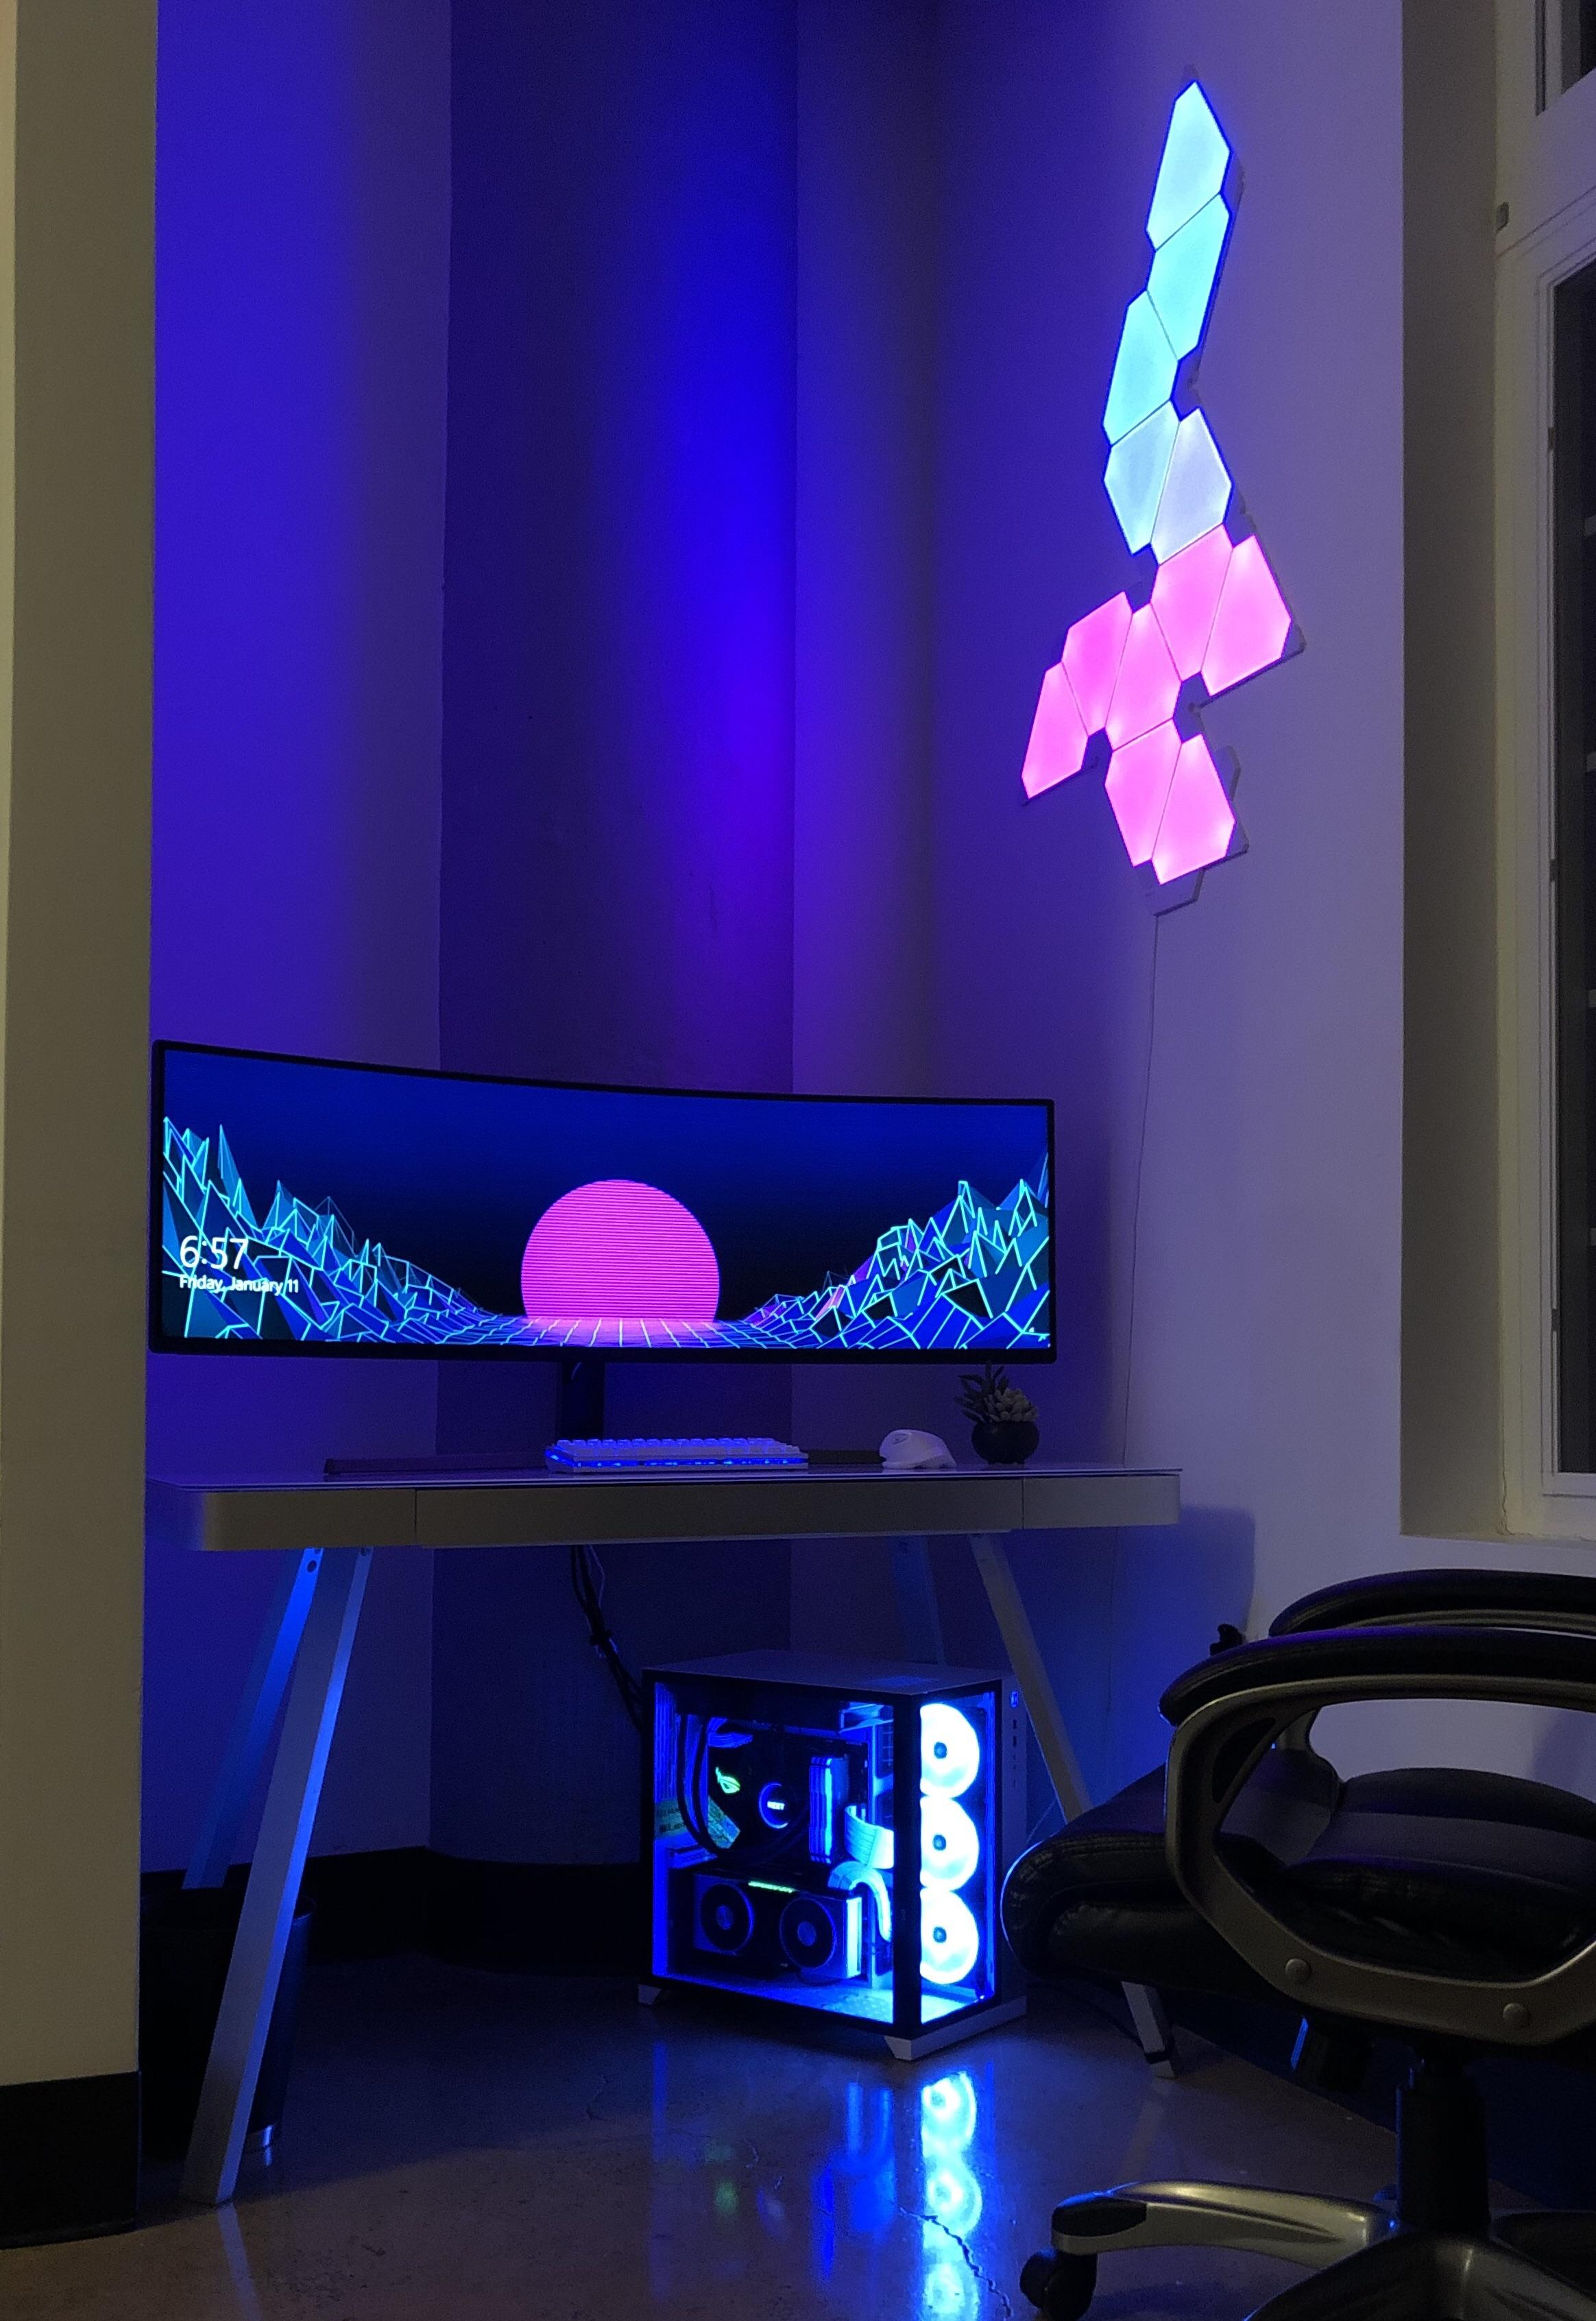Chair (Generic): (996, 1563, 1596, 2321)
Decoration (Plant): (954, 1362, 1039, 1464)
Desk (Generic): (146, 1462, 1183, 2210)
Desktop (Windows): (638, 1649, 1026, 2064)
Keyboard (Gaming): (545, 1436, 808, 1473)
Lamp (Desk): (1014, 62, 1303, 924)
Monitor (Landscape): (152, 1039, 1058, 1434)
Mouse (Ergonomic): (880, 1427, 958, 1471)
Trash Can: (136, 1891, 310, 2152)
